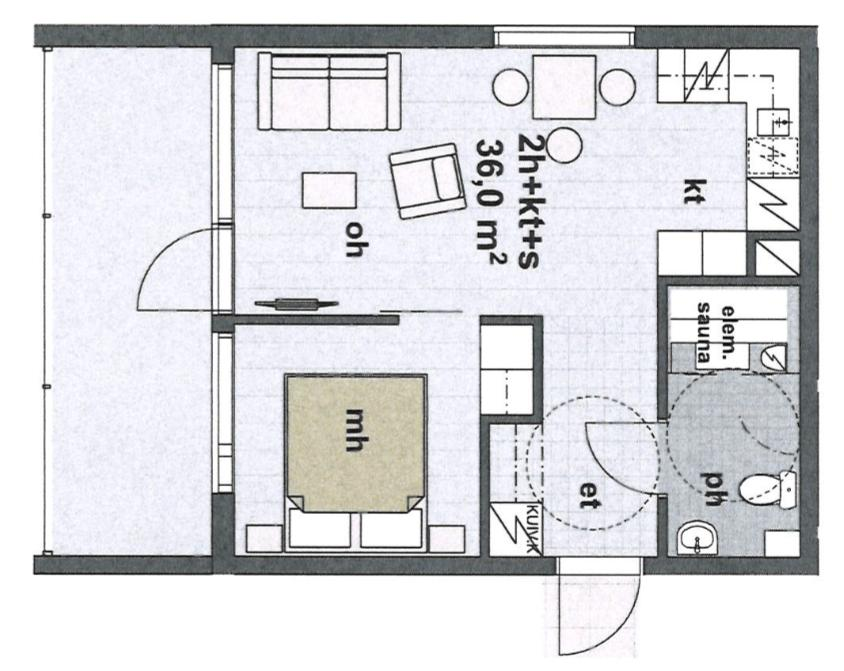bathroom: (667, 281, 807, 559)
door: (134, 217, 243, 316), (553, 549, 648, 657), (582, 414, 681, 498)
perimeter: (208, 22, 820, 575)
window: (204, 59, 242, 228), (205, 327, 239, 500), (488, 18, 639, 55)
